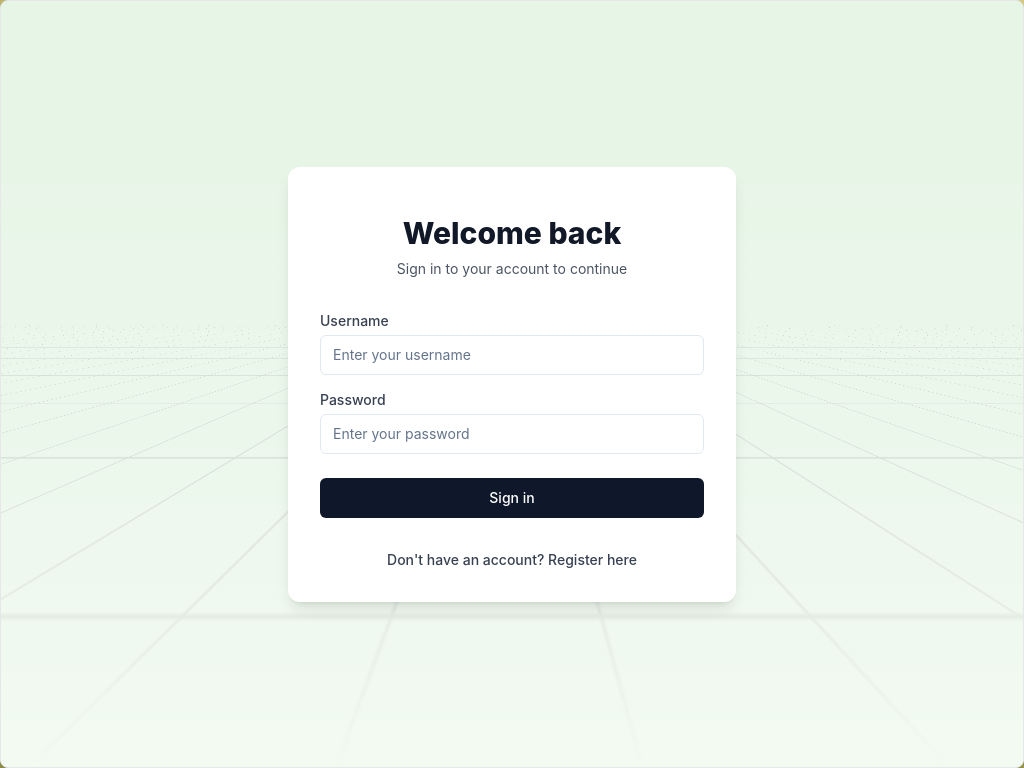
Scenario: LoginPage › displays specific error message from AxiosError on failed login
Type "testuser" into the field labelled "Username" at (512, 354), box [320,334,704,374]
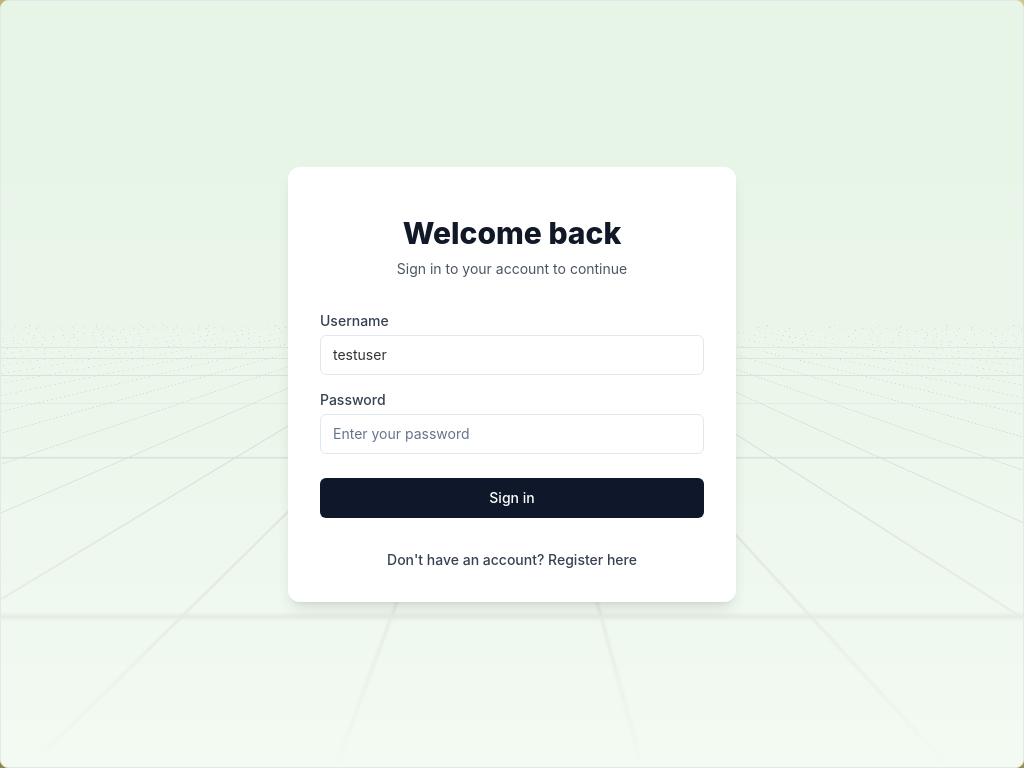
Type "wrongpassword" into the password field labelled "Password" at (512, 434), box [320,414,704,454]
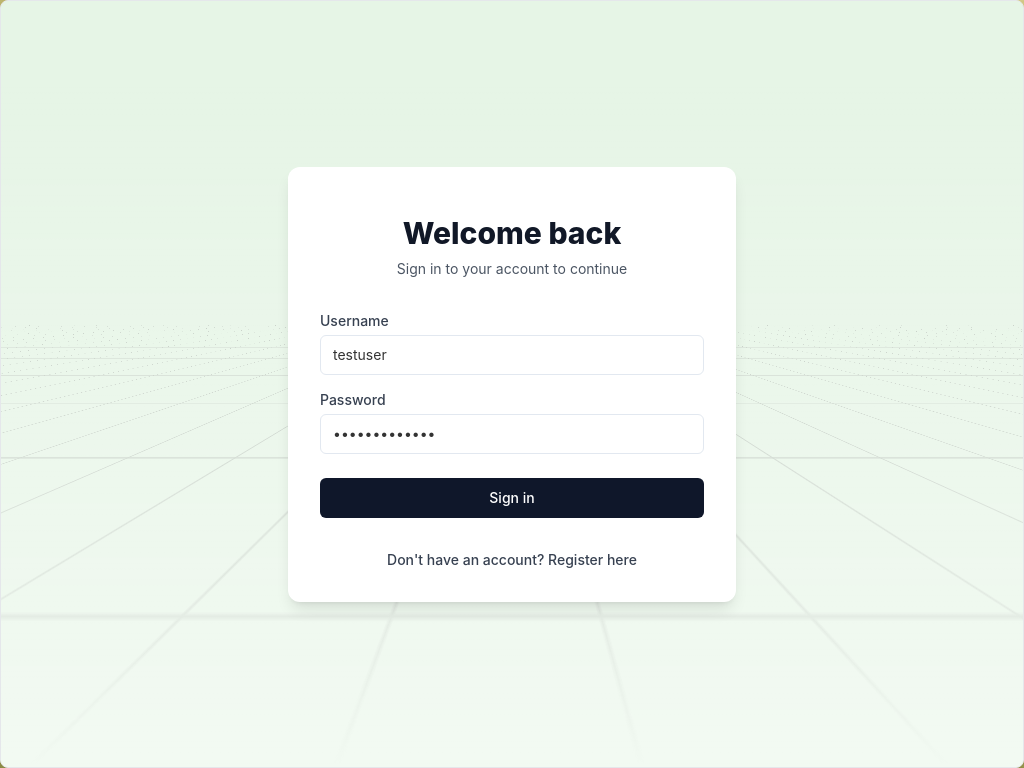
Click the button "Sign in" at (512, 498), box [320,478,704,518]
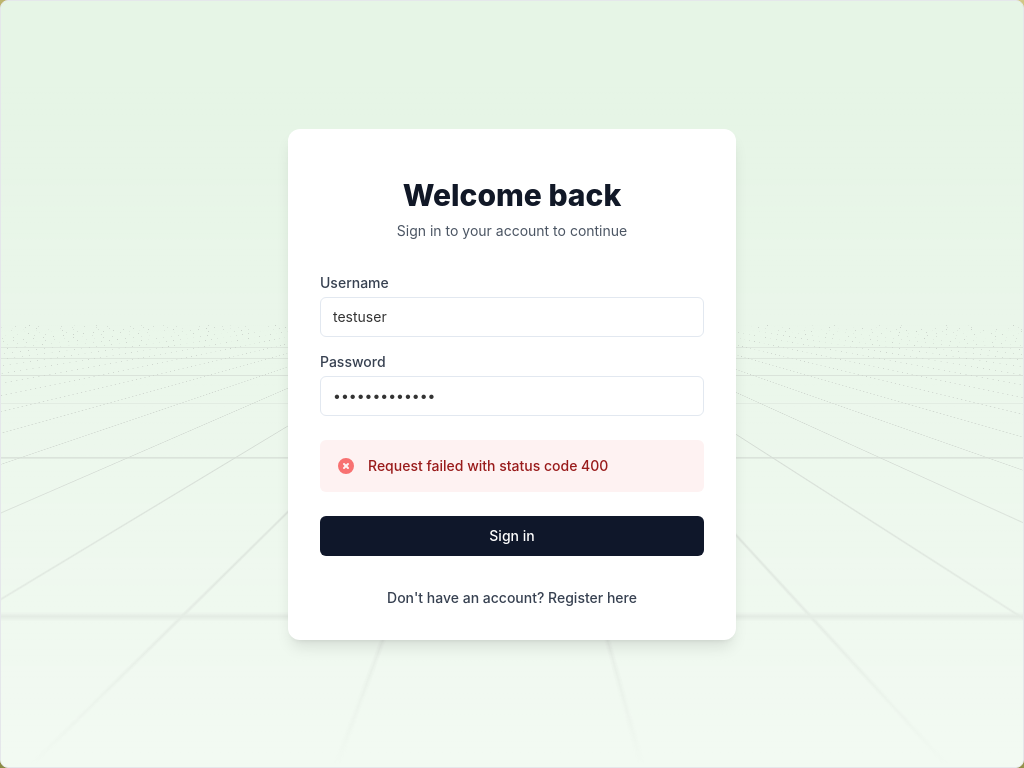
Check: the heading "Request failed with status code 400" is shown, box [368,456,608,476]
